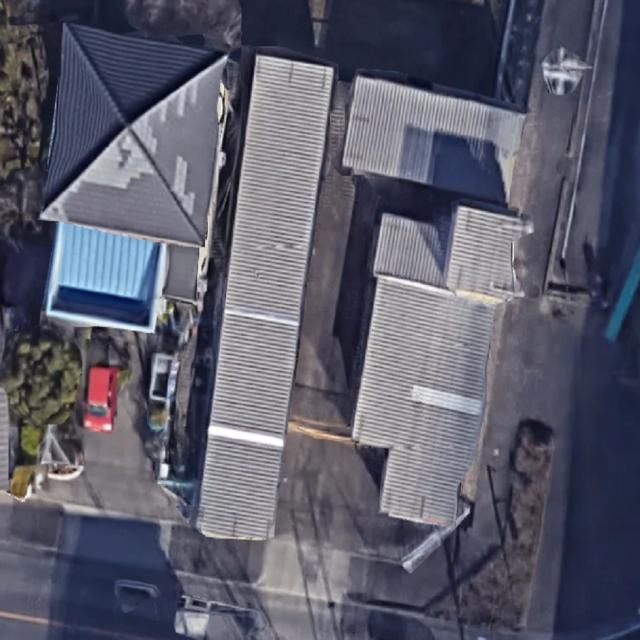Batiment: (198, 55, 331, 539), (352, 206, 532, 526), (41, 23, 226, 246), (342, 74, 525, 202), (45, 224, 164, 332)
